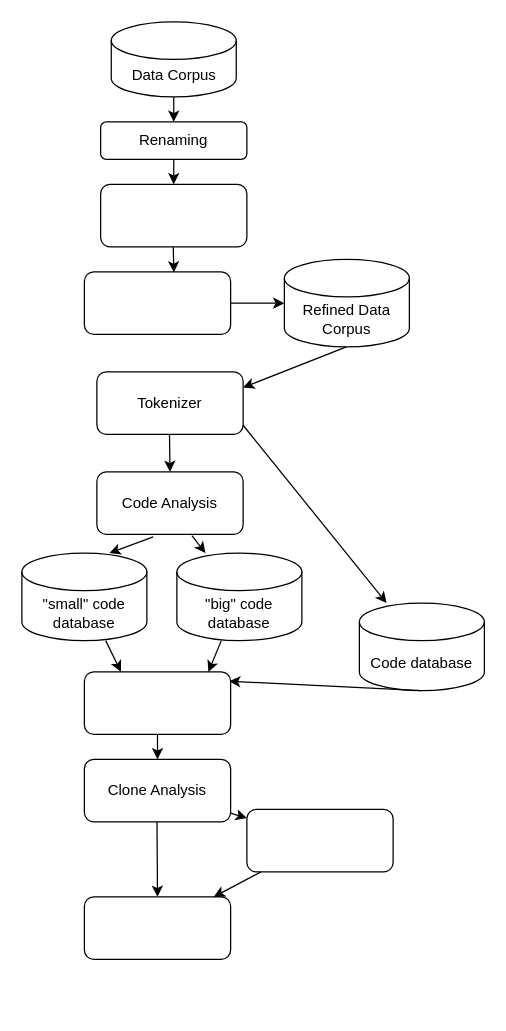
Some shapes in this 506 by 1031 pixel diagram are drawn without their labels. Each missing label, with the box of its shape:
Clone Detector: (83, 671, 231, 734)
Duplication Removal: (83, 271, 231, 334)
Evaluation: (83, 896, 231, 959)
Preprocessor: (99, 183, 247, 247)
Visualisation: (246, 808, 393, 872)
